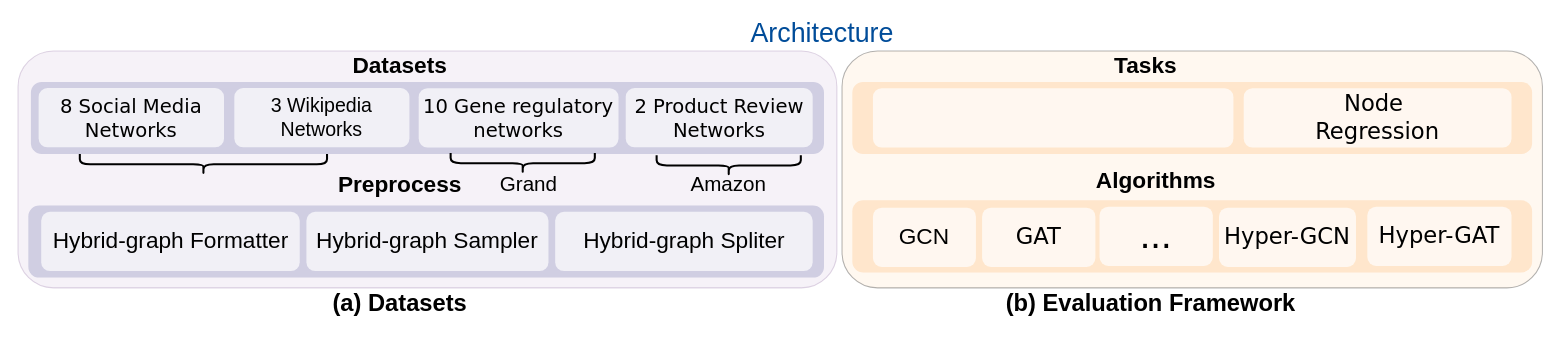
This 1560x337 diagram has some shape labels left out. Each missing label, with the centre of its shape:
Musae: (203,163)
Node Classification: (1052,117)
